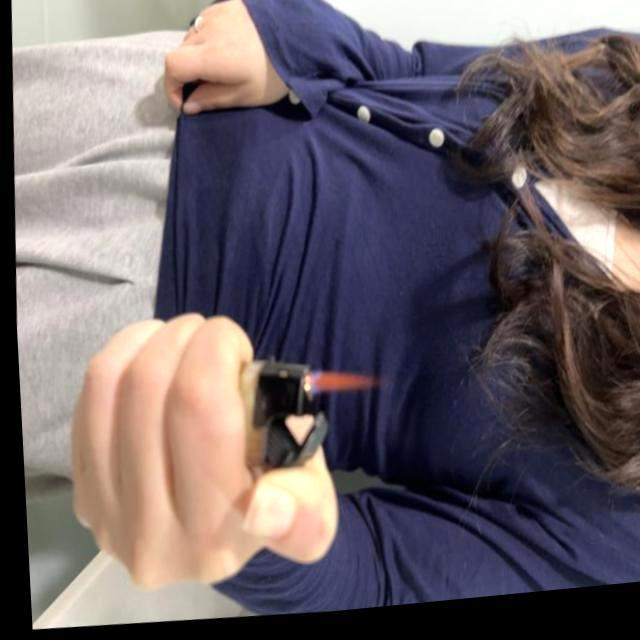fire: (304, 366, 378, 406)
